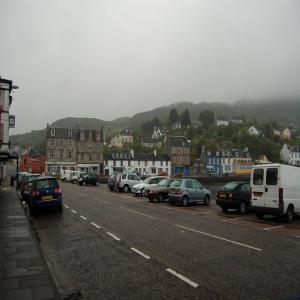Vehicle-registration-plate: (43, 198, 53, 201), (221, 195, 226, 198)
